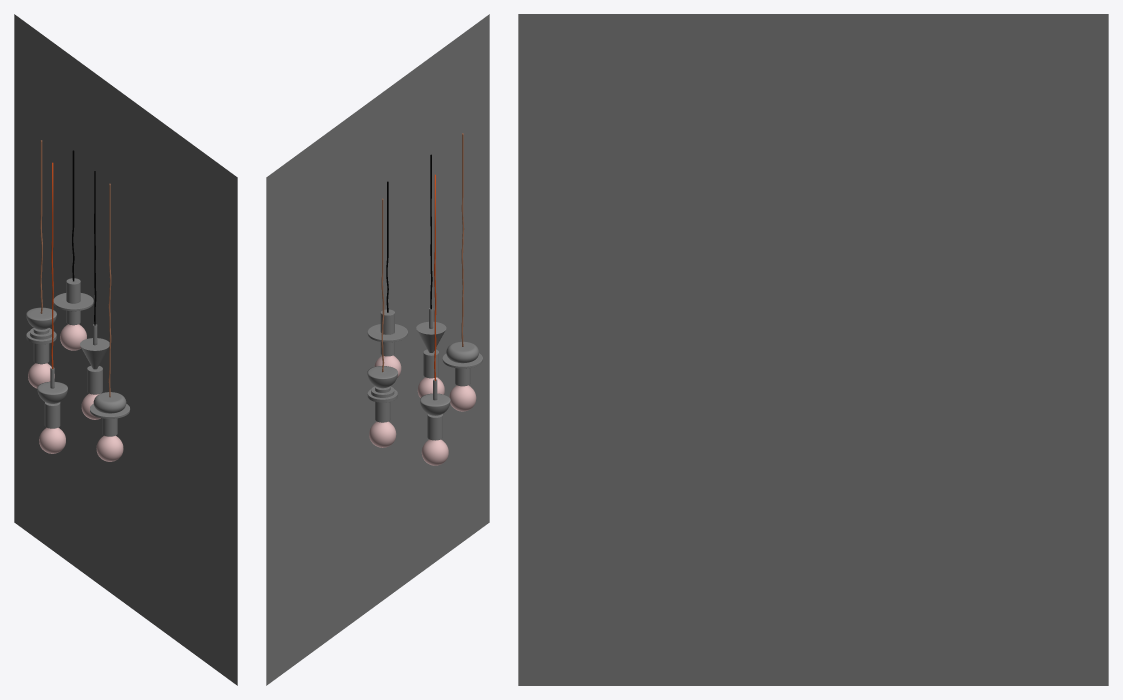
Rendered from uploads_files_2051662_JunitLighting.FBX.
3 views of the same model, side by side, from view 1: azimuth 30°, elevation 25°; view 2: azimuth 150°, elevation 25°; view 3: azimuth 270°, elevation 25° (orthographic). The views are drawn at different scales.
Parts seen in each view (by area): view 1: stena, Circle002, Circle008, Circle006, Line002, Circle001, Circle003, Circle004, Rectangle002, Circle005, Cylinder001, Cylinder003 (+5 smaller); view 2: stena, Circle006, Circle005, Circle008, Circle002, Line002, Circle003, Circle004, Rectangle002, Cylinder001, Cylinder002, Line001 (+4 smaller); view 3: stena.
Boxes of the visible parts, x1,y1,x2,y2 form: stena: (14, 14, 237, 685); Circle002: (93, 392, 126, 413); Circle008: (96, 435, 123, 461); Circle006: (39, 427, 65, 453); Line002: (80, 338, 109, 369); Circle001: (60, 324, 86, 350); Circle003: (26, 307, 56, 329); Circle004: (37, 381, 67, 403); Rectangle002: (53, 293, 93, 311); Circle005: (28, 363, 54, 388); Cylinder001: (108, 183, 111, 397); Cylinder003: (40, 140, 42, 313); stena: (266, 14, 489, 685); Circle006: (421, 439, 448, 465); Circle005: (369, 421, 396, 447); Circle008: (449, 385, 476, 411); Circle002: (446, 341, 478, 363); Line002: (416, 321, 446, 352); Circle003: (367, 366, 397, 388); Circle004: (420, 393, 450, 415); Rectangle002: (367, 324, 407, 342); Cylinder001: (461, 133, 464, 346); Cylinder002: (434, 174, 436, 380); Line001: (367, 386, 397, 402); stena: (518, 14, 1108, 685).
Bounding box in the file's own units: 9.36 × 57.84 × 46.06.
